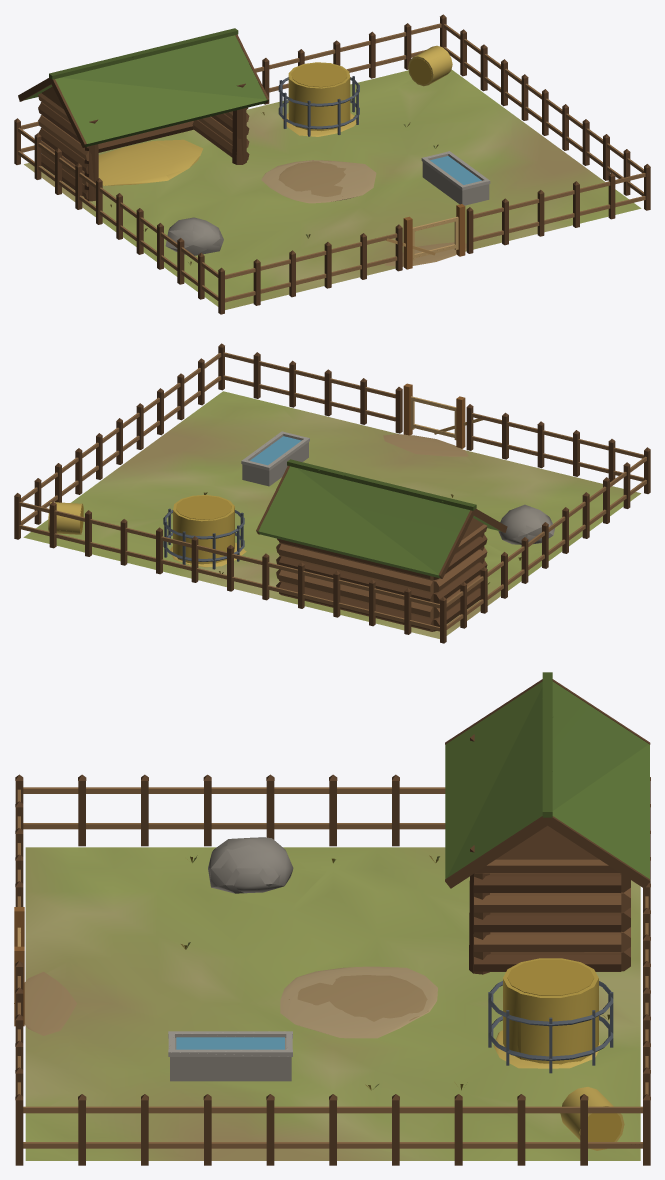
File: bison_range-g1.glb
3 views of the same model, one above another, from view 1: azimuth 30°, elevation 25°; view 2: azimuth 150°, elevation 25°; view 3: azimuth 270°, elevation 25° (orthographic). The views are drawn at different scales.
Visible parts, largest first — view 1: home-bison_range-g1-far, home-bison_range-g1; view 2: home-bison_range-g1, home-bison_range-g1-far; view 3: home-bison_range-g1-far, home-bison_range-g1.
Boxes of the visible parts, x1=… form: home-bison_range-g1-far: x1=14, y1=18, x2=650, y2=314; home-bison_range-g1: x1=14, y1=14, x2=650, y2=309; home-bison_range-g1: x1=14, y1=343, x2=650, y2=643; home-bison_range-g1-far: x1=23, y1=347, x2=649, y2=643; home-bison_range-g1-far: x1=14, y1=672, x2=650, y2=1165; home-bison_range-g1: x1=14, y1=679, x2=650, y2=1165.
Bounding box in the file's own units: 11.93 × 3.09 × 9.95.
